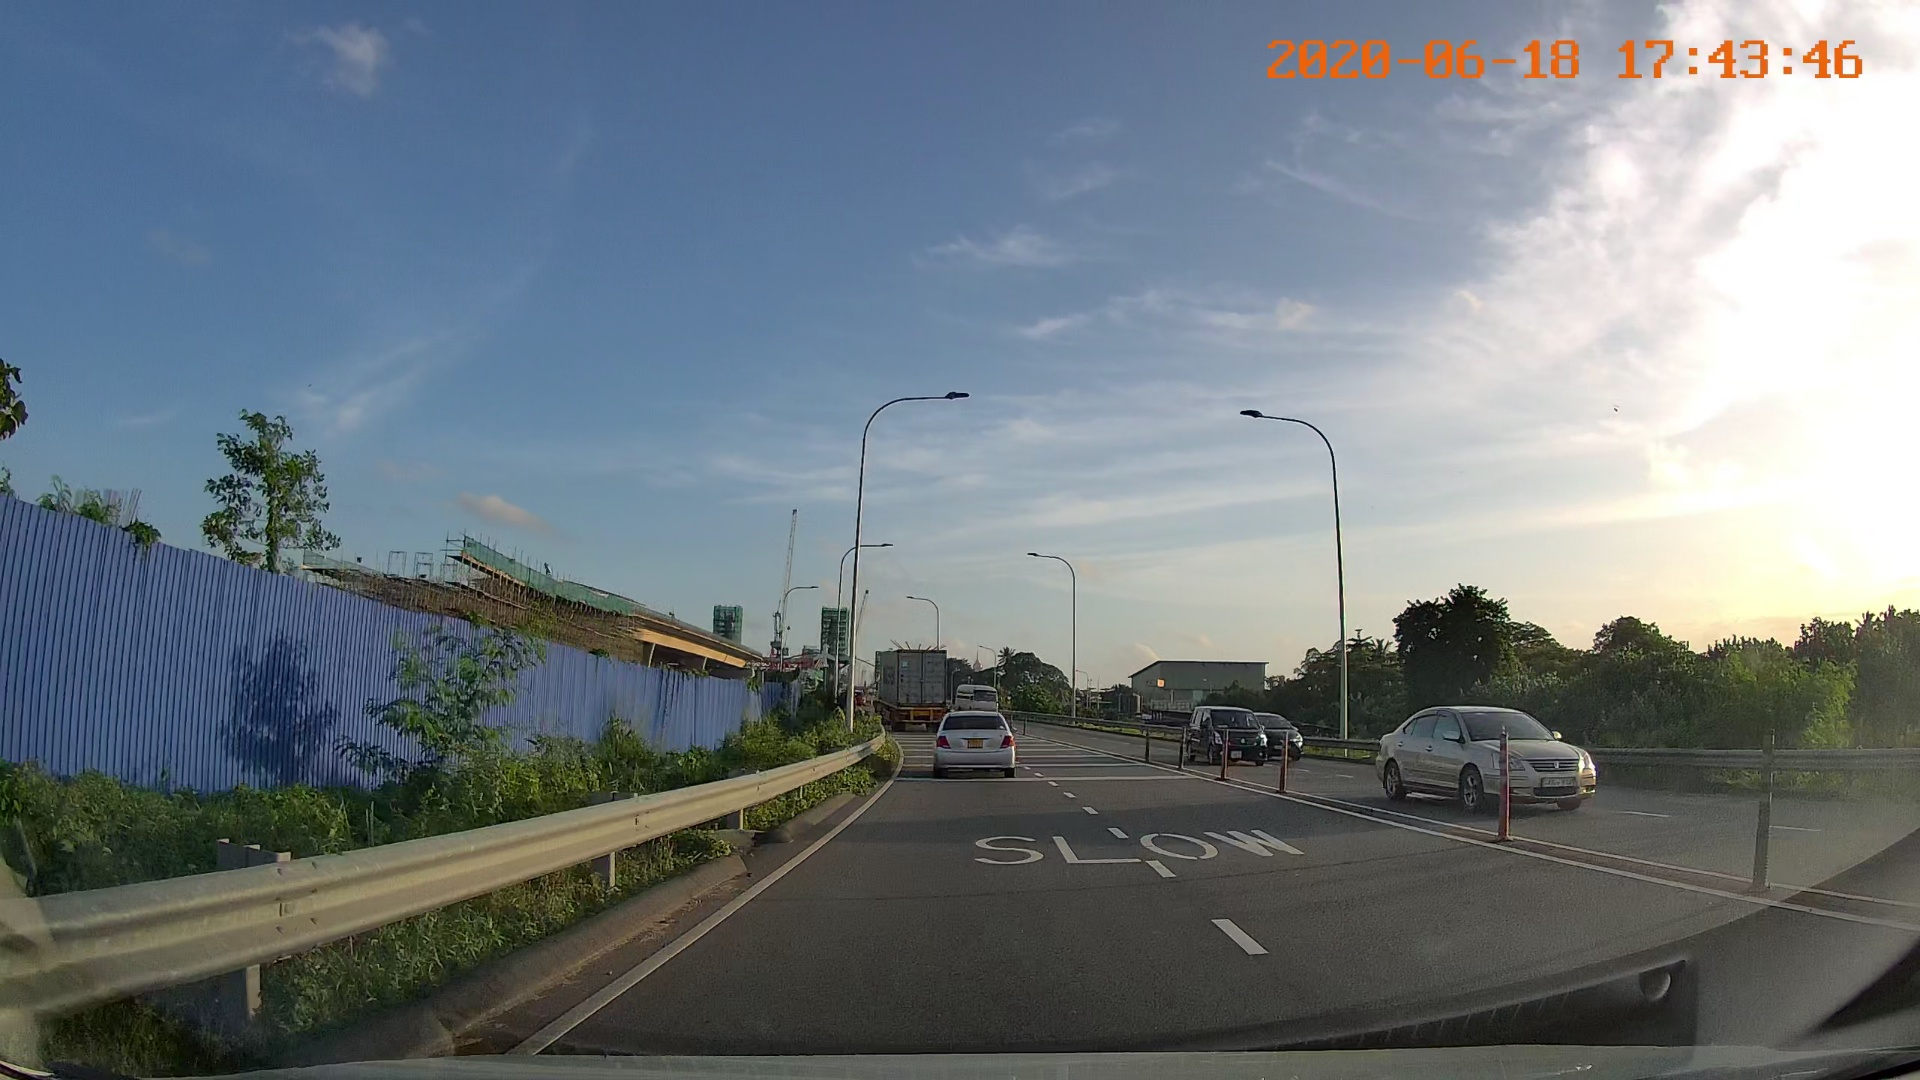slow: (969, 835, 1305, 872)
